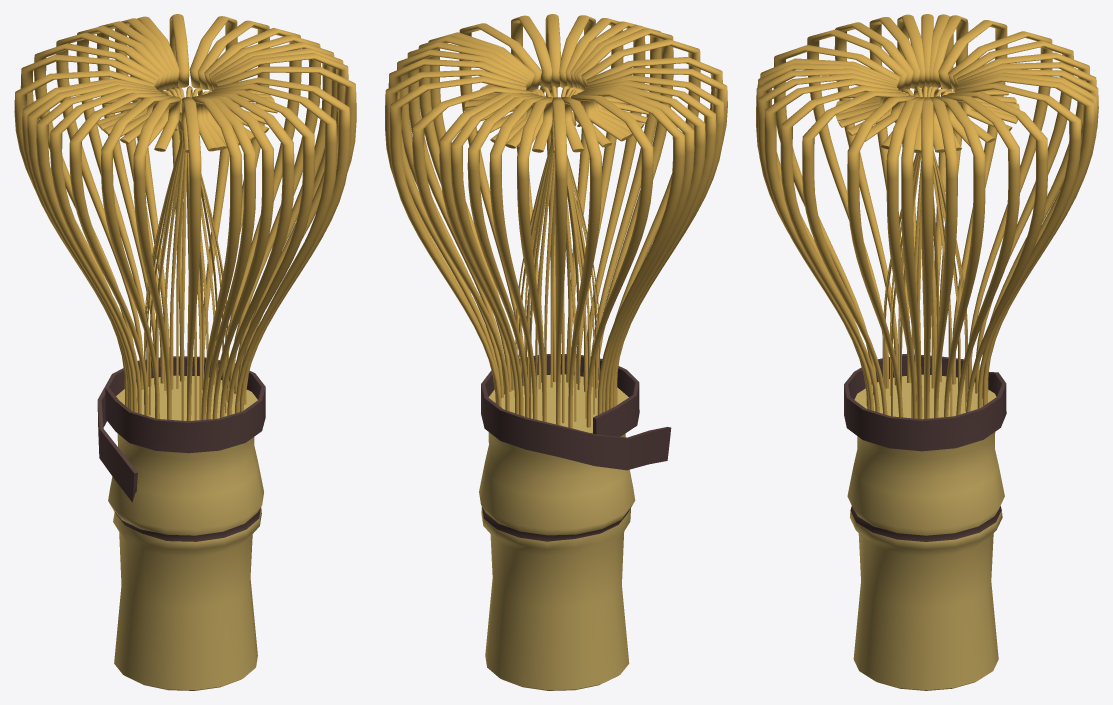
Rendered from tea_whisk.fbx.
3 views of the same model, side by side, from view 1: azimuth 30°, elevation 25°; view 2: azimuth 150°, elevation 25°; view 3: azimuth 270°, elevation 25° (orthographic).
Parts seen in each view (by area): view 1: outer, bot, inner, cloth; view 2: outer, bot, inner, cloth; view 3: outer, bot, cloth, inner.
Part boxes in pixels (bbox=[...]): outer: bbox=[14, 14, 356, 420]; bot: bbox=[108, 375, 263, 690]; inner: bbox=[144, 86, 228, 420]; cloth: bbox=[97, 356, 265, 502]; outer: bbox=[385, 14, 727, 428]; bot: bbox=[479, 374, 635, 690]; inner: bbox=[515, 85, 599, 423]; cloth: bbox=[481, 354, 671, 470]; outer: bbox=[756, 14, 1098, 418]; bot: bbox=[847, 374, 1004, 690]; cloth: bbox=[844, 354, 1006, 451]; inner: bbox=[882, 85, 967, 418].
Bounding box in the file's own units: 1.96 × 3.73 × 1.96.
